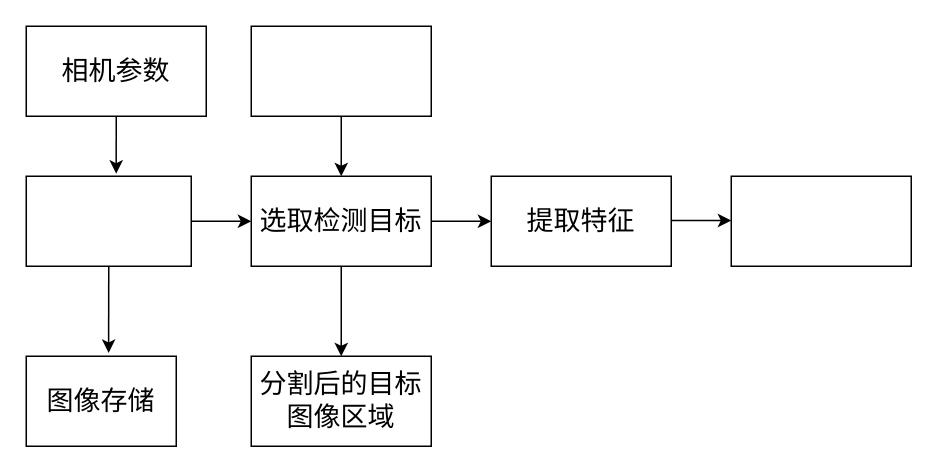
This 938x473 diagram has some shape labels left out. The centre of each missing label's shape, as x and y in pixels:
"图像" belongs at point (340, 70).
"获取图像数据" belongs at point (108, 220).
"训练模型" belongs at point (820, 220).
